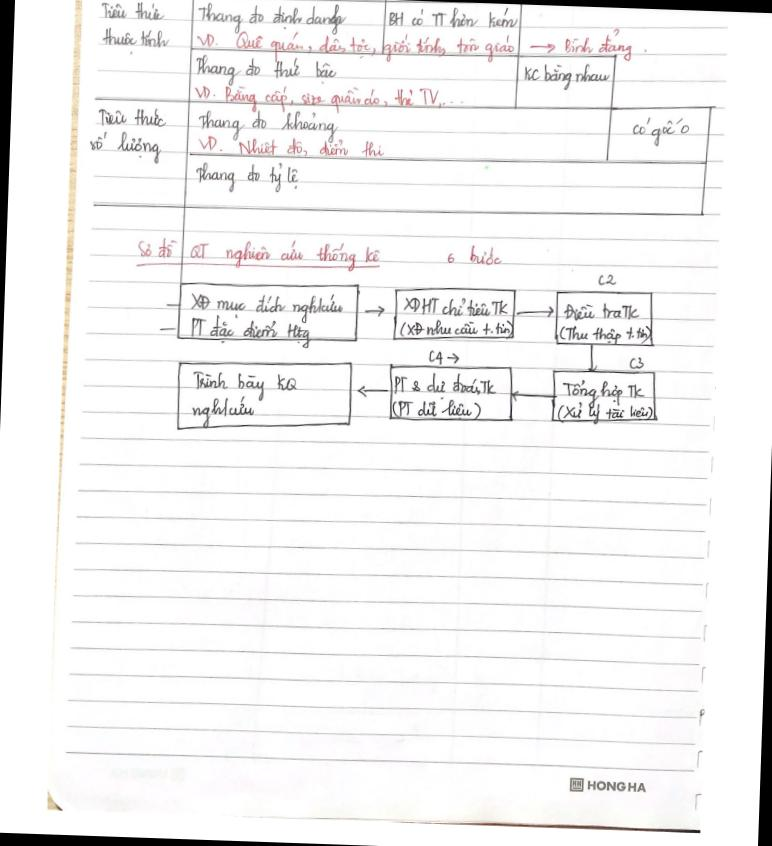text: (190, 14, 634, 75), (190, 78, 466, 121), (133, 230, 383, 276), (186, 286, 348, 328), (192, 53, 342, 92), (196, 132, 388, 162), (195, 0, 351, 36), (196, 106, 340, 145), (185, 312, 314, 350), (386, 3, 518, 35), (190, 367, 300, 405), (194, 158, 303, 196), (396, 314, 517, 346), (391, 372, 502, 401), (518, 60, 614, 93), (400, 293, 512, 321), (87, 128, 163, 166), (553, 400, 656, 428), (561, 377, 647, 410), (560, 320, 652, 348), (629, 112, 693, 150), (188, 396, 258, 430), (100, 24, 172, 56), (94, 102, 170, 132), (562, 300, 642, 326), (392, 400, 482, 422), (98, 0, 169, 24), (443, 244, 506, 270), (594, 268, 618, 288), (626, 353, 646, 370), (425, 349, 446, 365)
